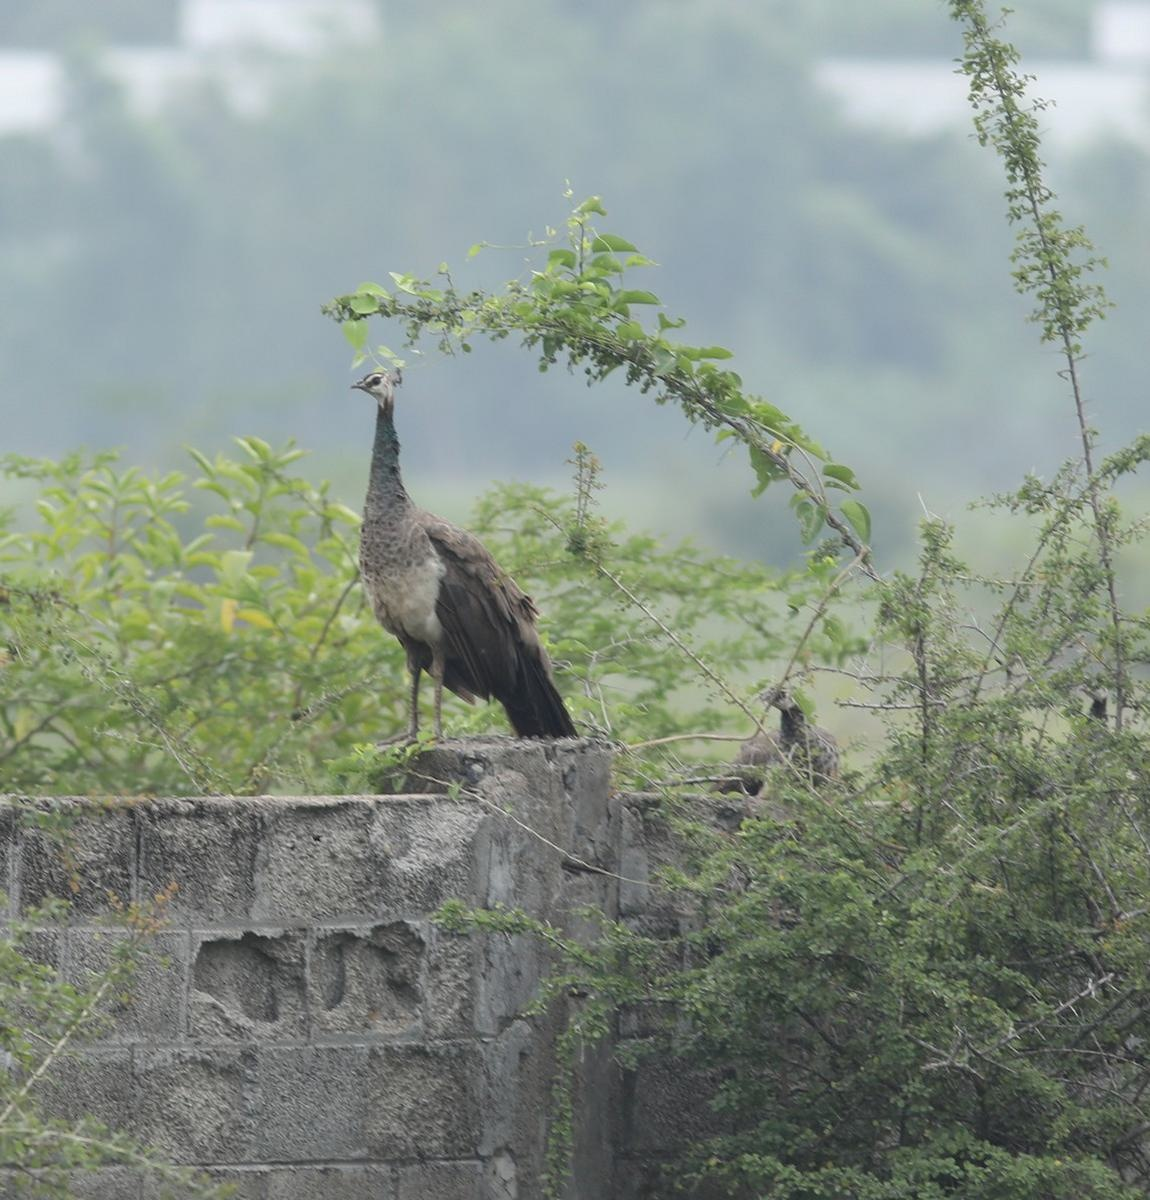peacock: (337, 378, 617, 822)
